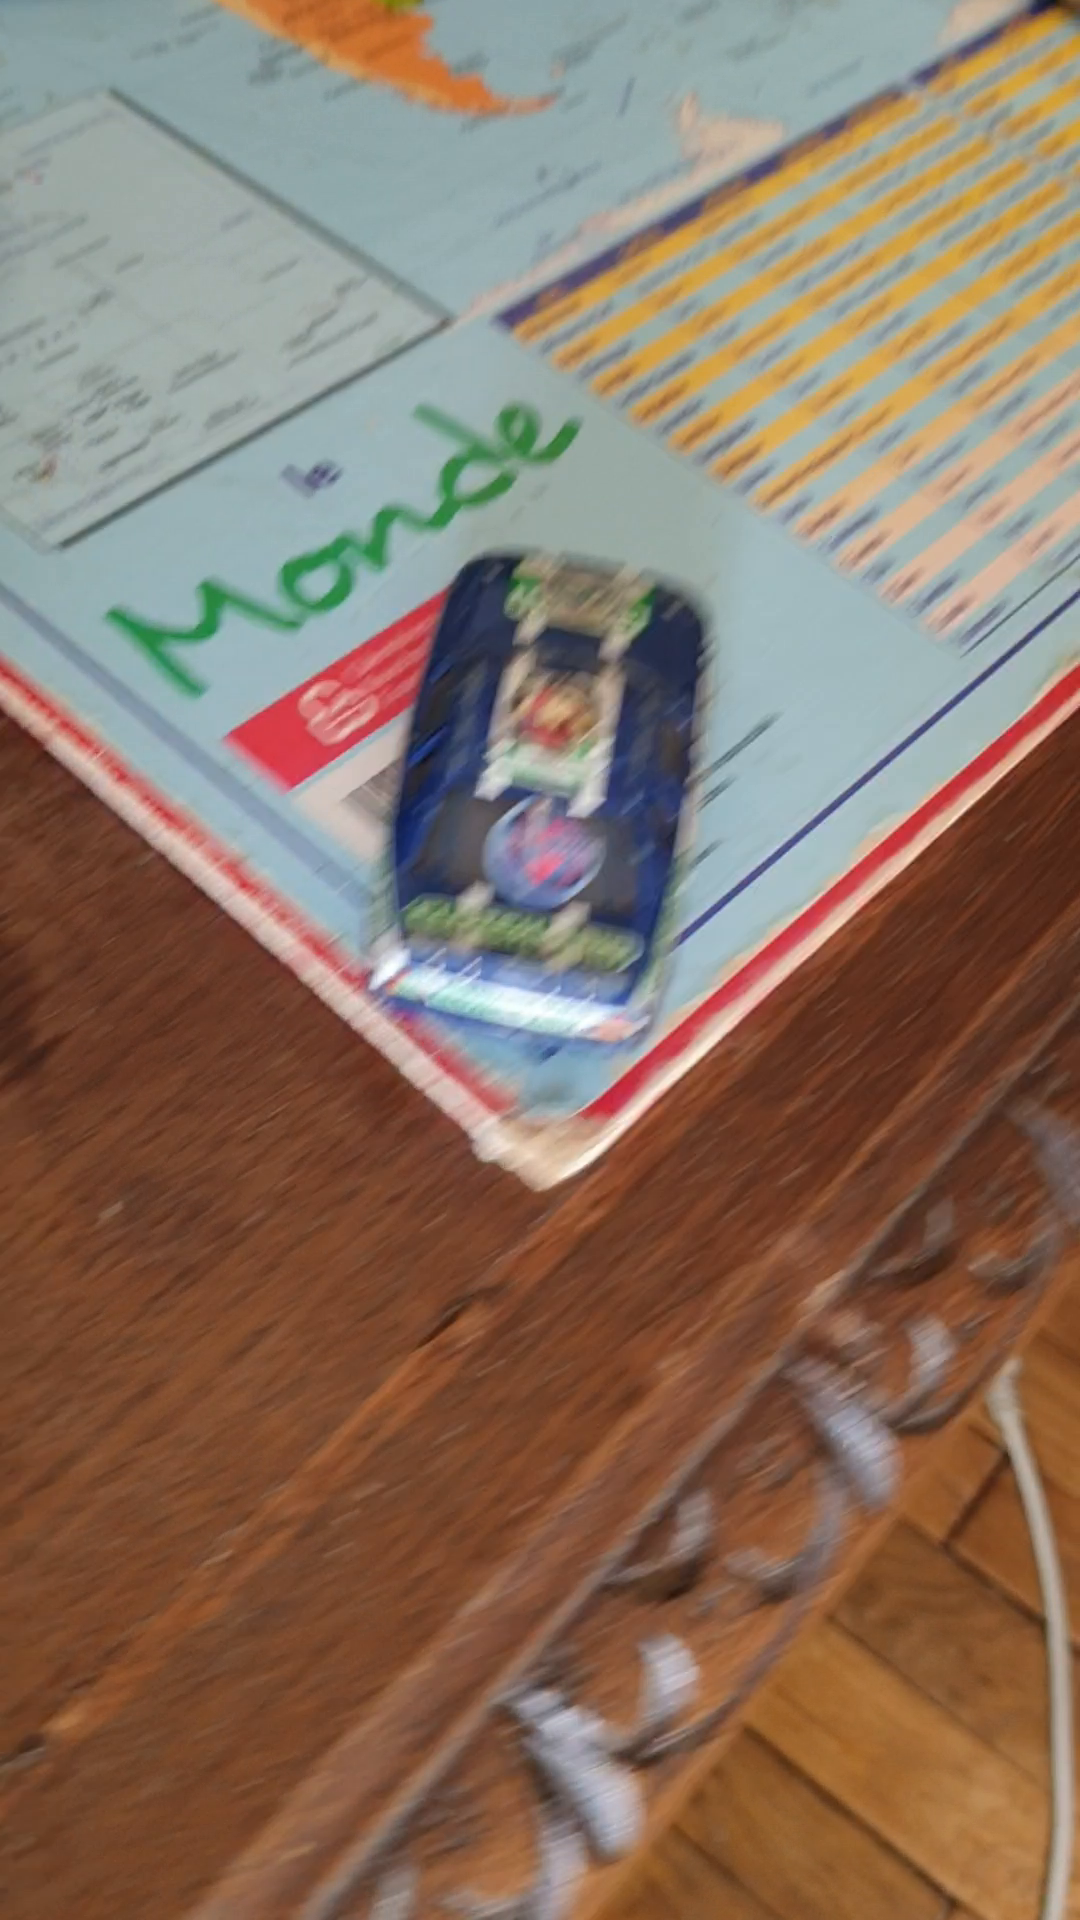cars: (353, 549, 713, 1044)
